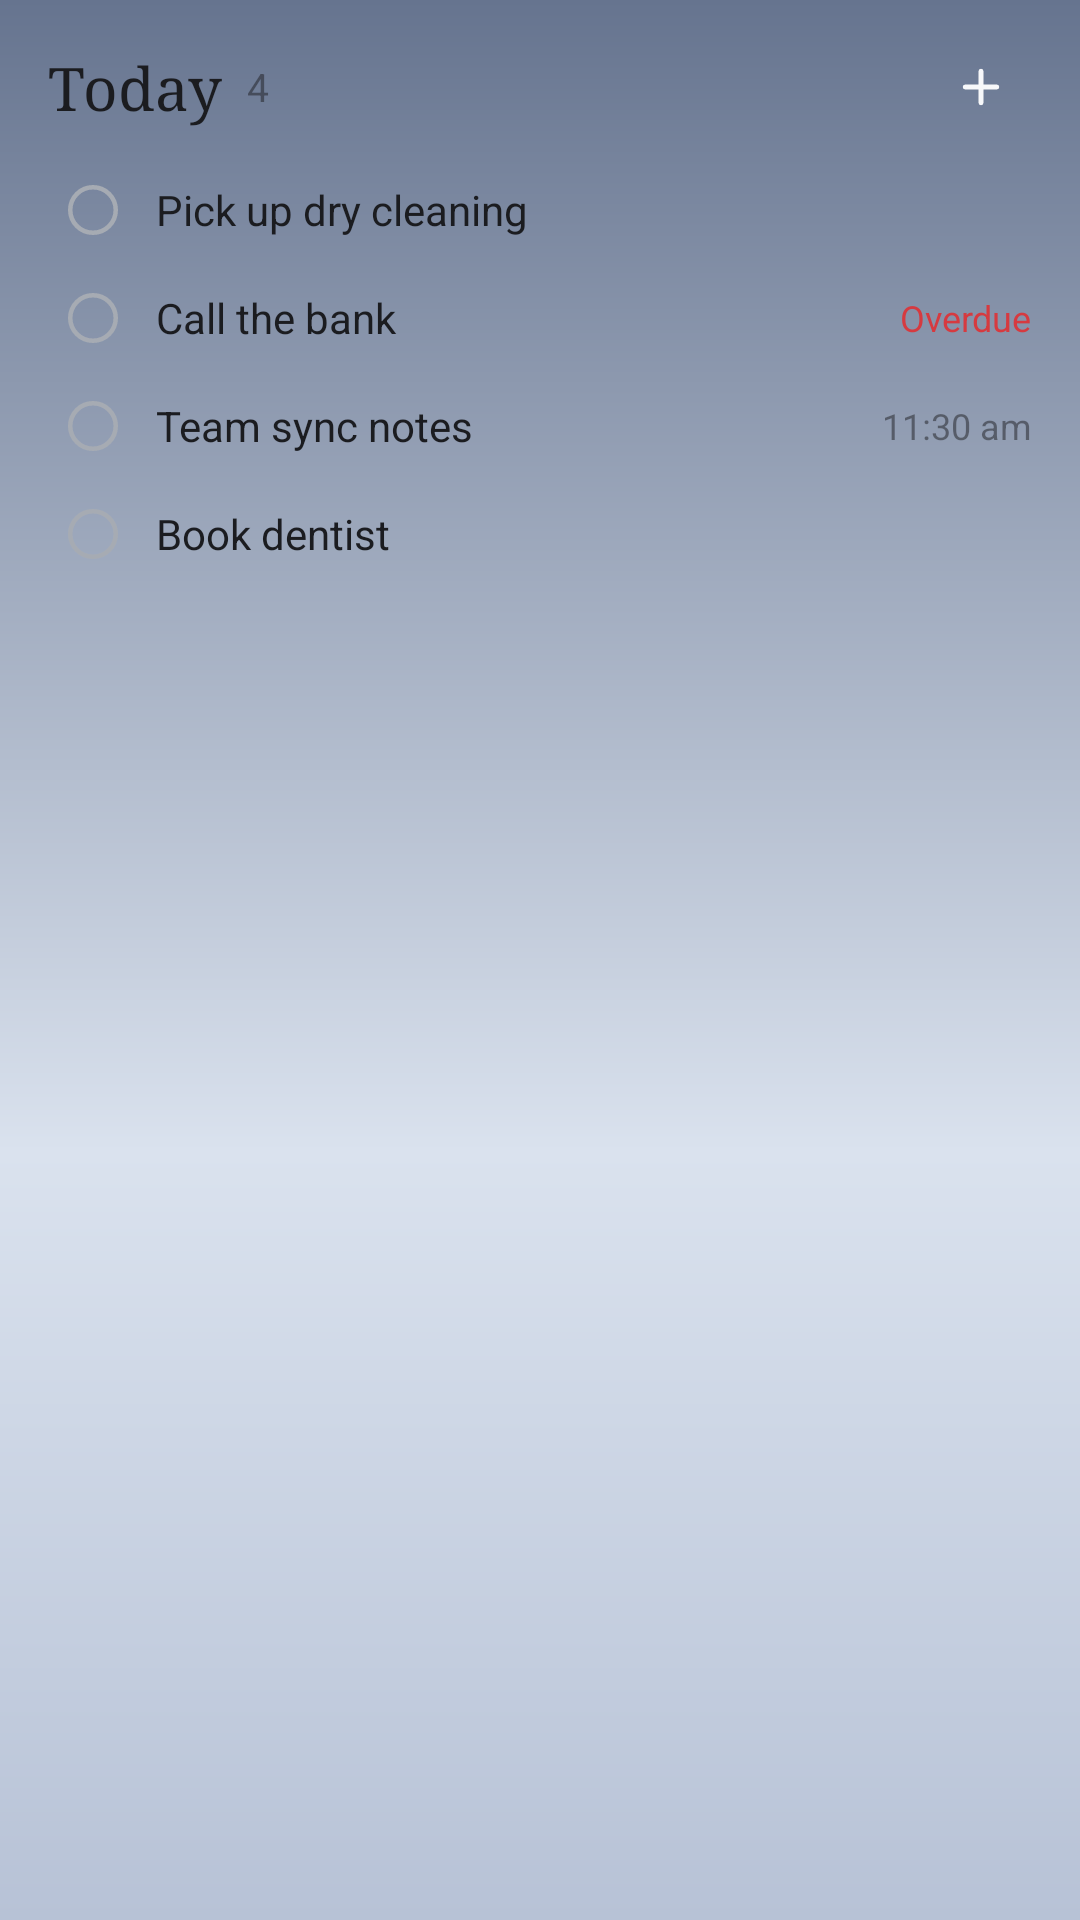

Named icons in this screenshot (1080x1920) and their centers, (x=x, y=y):
widget plus: (x=981, y=87)
